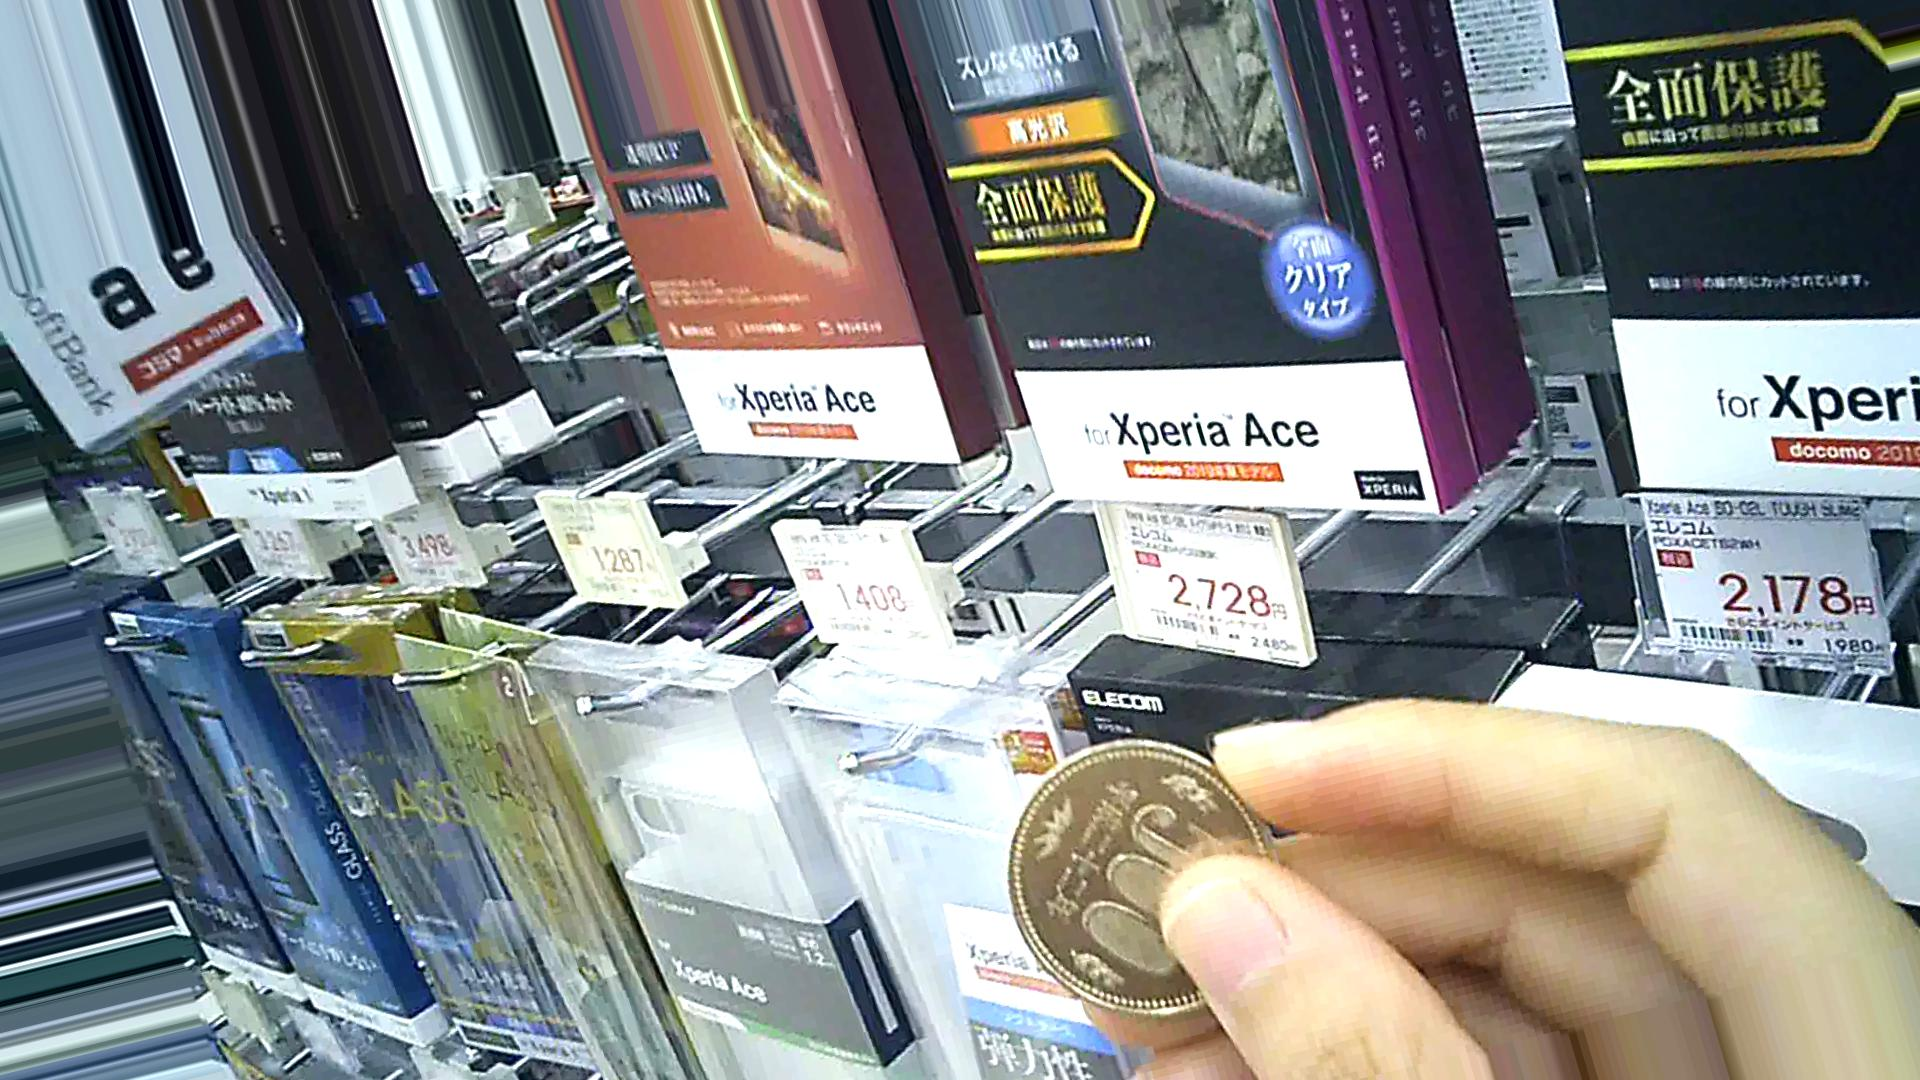500 Yen: (1006, 742, 1263, 1002)
